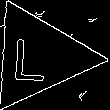L_N: (20, 30, 58, 83)
